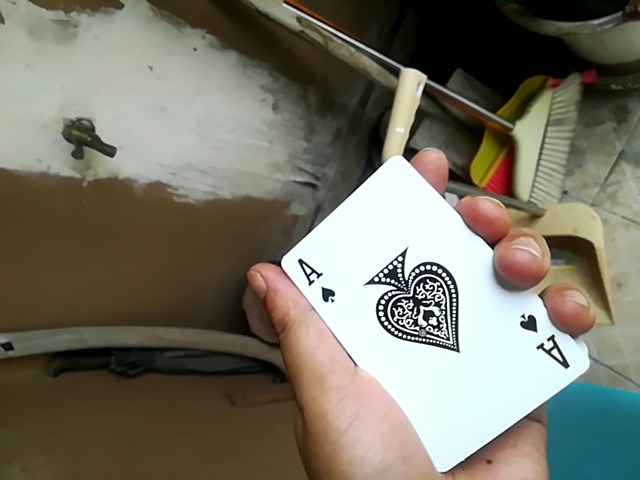ht a: (269, 166, 579, 475)
